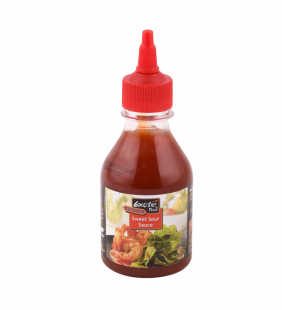EXOTIC FOOD: (99, 29, 194, 279)
